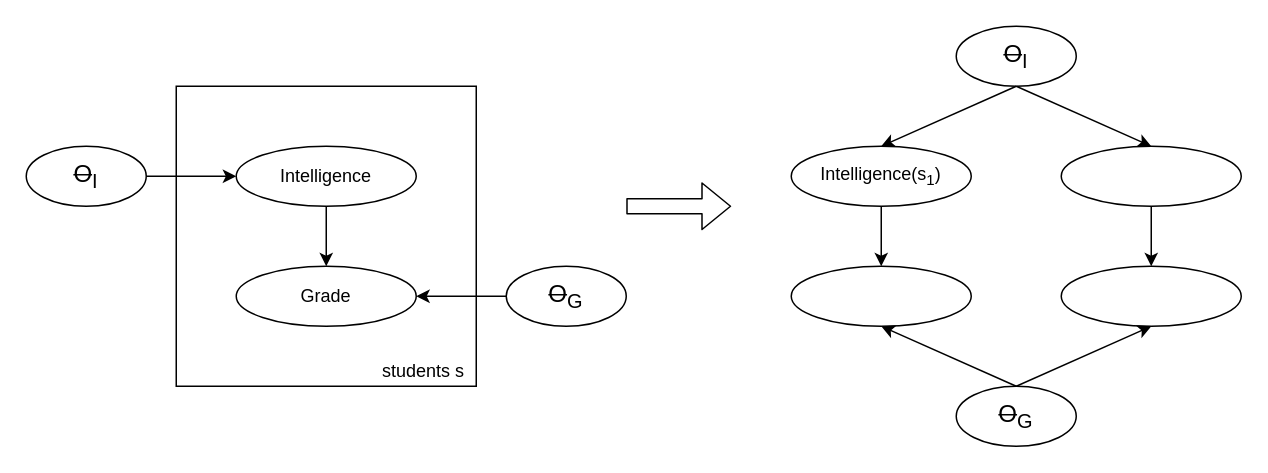
Some shapes in this 1268 by 473 pixel diagram are drawn without their labels. The centre of each missing label's shape, as x and y in pixels:
Grade(s 1 ): point (880, 295)
Grade(s 2 ): point (1150, 295)
Intelligence(s 2 ): point (1150, 175)
